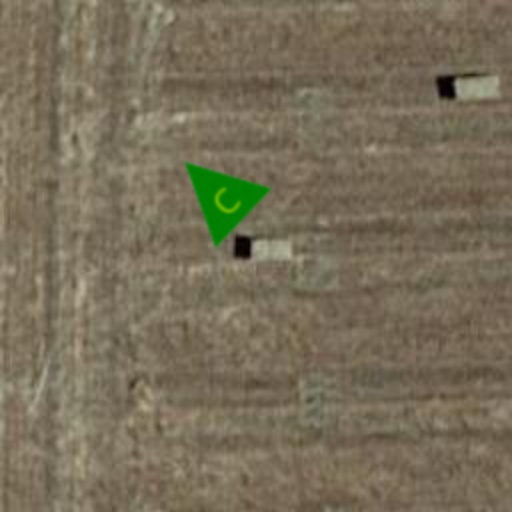triangle: (154, 130, 274, 250)
